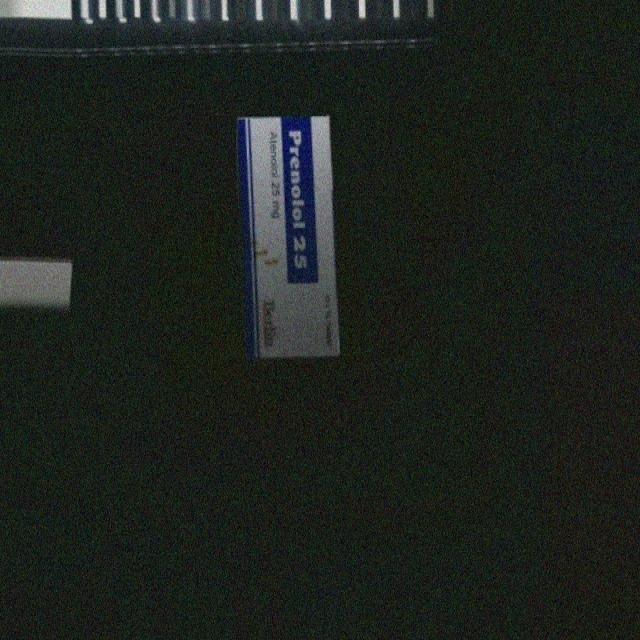prenolol: (237, 113, 339, 359)
